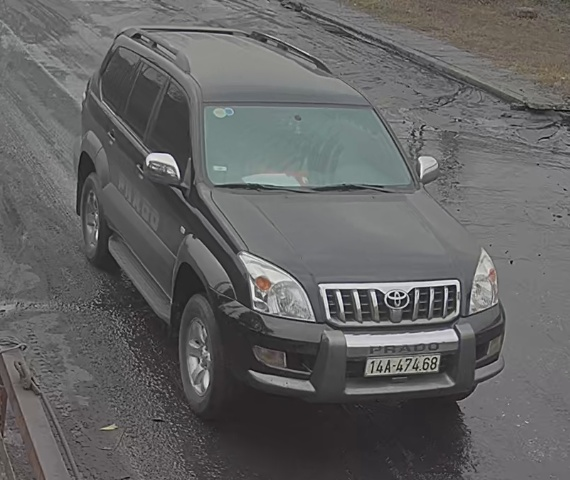vehicle plate: (362, 349, 444, 384)
